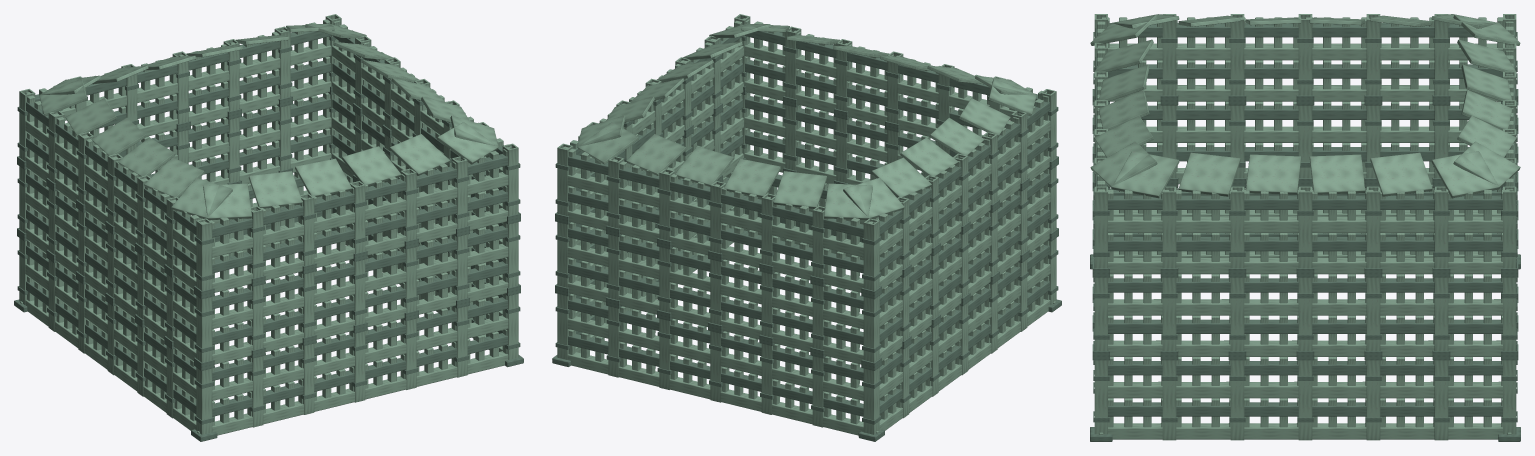
3 renders of one model, left to right at view 1: azimuth 30°, elevation 25°; view 2: azimuth 150°, elevation 25°; view 3: azimuth 270°, elevation 25°, orthographic. The views are drawn at different scales.
Visible parts, largest first — view 1: Crown alloy petal 0-1, Crown alloy petal 0-2, Crown alloy petal 0-3, Crown alloy petal 0-4, Crown alloy petal 3-4, Crown alloy petal 0-0, Crown alloy petal 3-3, Crown alloy petal 3-5, Crown alloy petal 0-5, Crown alloy petal 3-2, Crown alloy petal 3-1, Tier 2 side 0 post 0 (+87 smaller); view 2: Crown alloy petal 2-4, Crown alloy petal 2-3, Crown alloy petal 2-2, Crown alloy petal 2-1, Crown alloy petal 3-1, Crown alloy petal 2-5, Crown alloy petal 3-2, Crown alloy petal 3-0, Crown alloy petal 2-0, Crown alloy petal 3-3, Crown alloy petal 3-4, Tier 2 side 3 post 0 (+88 smaller); view 3: Crown alloy petal 1-1, Crown alloy petal 1-4, Crown alloy petal 1-2, Crown alloy petal 1-3, Crown alloy petal 1-5, Crown alloy petal 1-0, Crown alloy petal 0-5, Crown alloy petal 2-0, Crown alloy petal 2-1, Crown alloy petal 0-4, Crown alloy petal 2-2, Crown alloy petal 0-3 (+139 smaller).
Boxes of the visible parts, bbox=[...] form: Crown alloy petal 0-1: bbox=[248, 171, 302, 208]; Crown alloy petal 0-2: bbox=[295, 158, 352, 197]; Crown alloy petal 0-3: bbox=[342, 146, 401, 185]; Crown alloy petal 0-4: bbox=[389, 134, 449, 175]; Crown alloy petal 3-4: bbox=[144, 157, 204, 197]; Crown alloy petal 0-0: bbox=[203, 183, 251, 220]; Crown alloy petal 3-3: bbox=[117, 137, 175, 176]; Crown alloy petal 3-5: bbox=[171, 177, 232, 218]; Crown alloy petal 0-5: bbox=[437, 122, 498, 164]; Crown alloy petal 3-2: bbox=[91, 117, 146, 155]; Crown alloy petal 3-1: bbox=[65, 98, 116, 137]; Tier 2 side 0 post 0: bbox=[196, 218, 212, 290]; Crown alloy petal 2-4: bbox=[773, 171, 827, 208]; Crown alloy petal 2-3: bbox=[724, 158, 780, 197]; Crown alloy petal 2-2: bbox=[675, 146, 733, 186]; Crown alloy petal 2-1: bbox=[626, 134, 686, 175]; Crown alloy petal 3-1: bbox=[871, 157, 931, 197]; Crown alloy petal 2-5: bbox=[824, 183, 872, 220]; Crown alloy petal 3-2: bbox=[900, 137, 958, 176]; Crown alloy petal 3-0: bbox=[843, 177, 904, 218]; Crown alloy petal 2-0: bbox=[577, 122, 638, 164]; Crown alloy petal 3-3: bbox=[929, 117, 984, 155]; Crown alloy petal 3-4: bbox=[959, 98, 1010, 137]; Tier 2 side 3 post 0: bbox=[863, 218, 879, 290]; Crown alloy petal 1-1: bbox=[1178, 152, 1240, 196]; Crown alloy petal 1-4: bbox=[1370, 152, 1432, 196]; Crown alloy petal 1-2: bbox=[1246, 154, 1301, 194]; Crown alloy petal 1-3: bbox=[1309, 154, 1365, 194]; Crown alloy petal 1-5: bbox=[1431, 151, 1498, 198]; Crown alloy petal 1-0: bbox=[1112, 151, 1179, 198]; Crown alloy petal 0-5: bbox=[1090, 141, 1157, 189]; Crown alloy petal 2-0: bbox=[1453, 141, 1520, 188]; Crown alloy petal 2-1: bbox=[1457, 115, 1516, 157]; Crown alloy petal 0-4: bbox=[1094, 115, 1153, 157]; Crown alloy petal 2-2: bbox=[1461, 90, 1512, 130]; Crown alloy petal 0-3: bbox=[1098, 90, 1149, 130].
Size of the model in its own units: 2.85 by 1.92 by 2.85.
2 materials, 2 textured.
